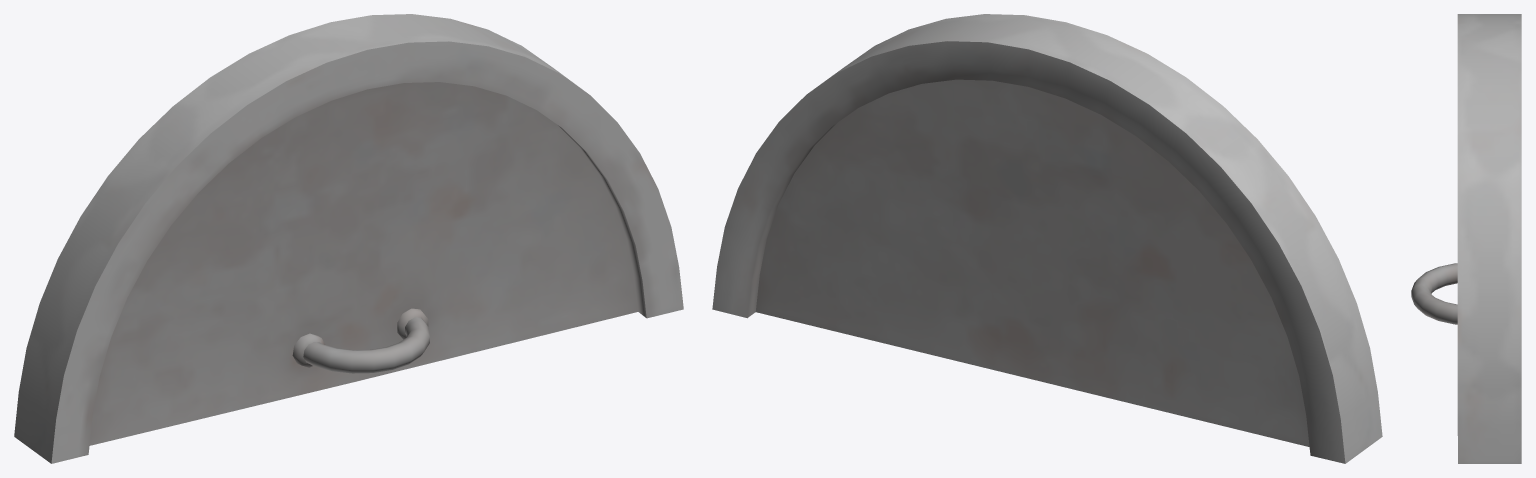
The model's file is SM_Farm_StoveLid.fbx.
3 views of the same model, side by side, from view 1: azimuth 30°, elevation 25°; view 2: azimuth 150°, elevation 25°; view 3: azimuth 270°, elevation 25° (orthographic). The views are drawn at different scales.
Visible parts, largest first — view 1: SM_Farm_StoveLid_LOD0; view 2: SM_Farm_StoveLid_LOD0; view 3: SM_Farm_StoveLid_LOD0.
Boxes of the visible parts, x1=… form: SM_Farm_StoveLid_LOD0: x1=14, y1=14, x2=683, y2=463; SM_Farm_StoveLid_LOD0: x1=712, y1=14, x2=1382, y2=463; SM_Farm_StoveLid_LOD0: x1=1411, y1=14, x2=1521, y2=463.
Size of the model in its own units: 58.49 by 29.81 by 10.31.
